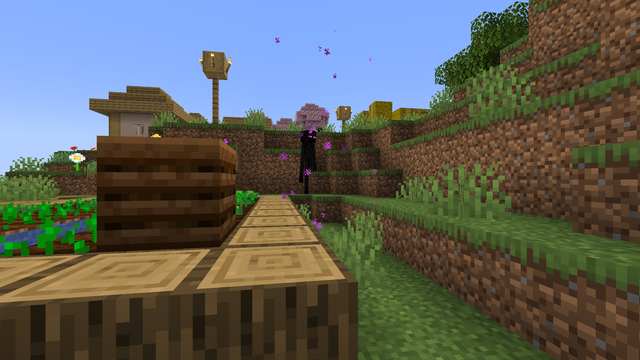endermens: (301, 127, 315, 193)
